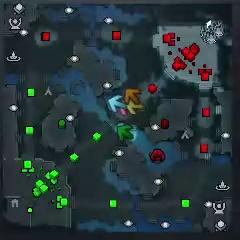x1: (119, 101, 126, 116)
x2: (127, 99, 144, 115)
x3: (109, 94, 125, 113)
x4: (117, 125, 133, 142)
x5: (125, 88, 141, 105)
